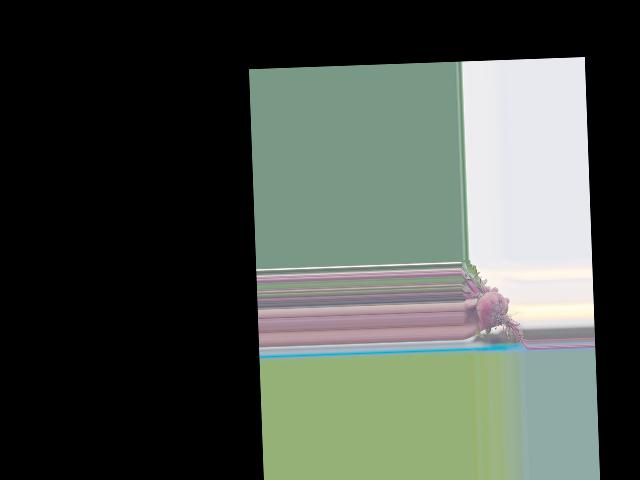beet: (461, 257, 528, 351)
